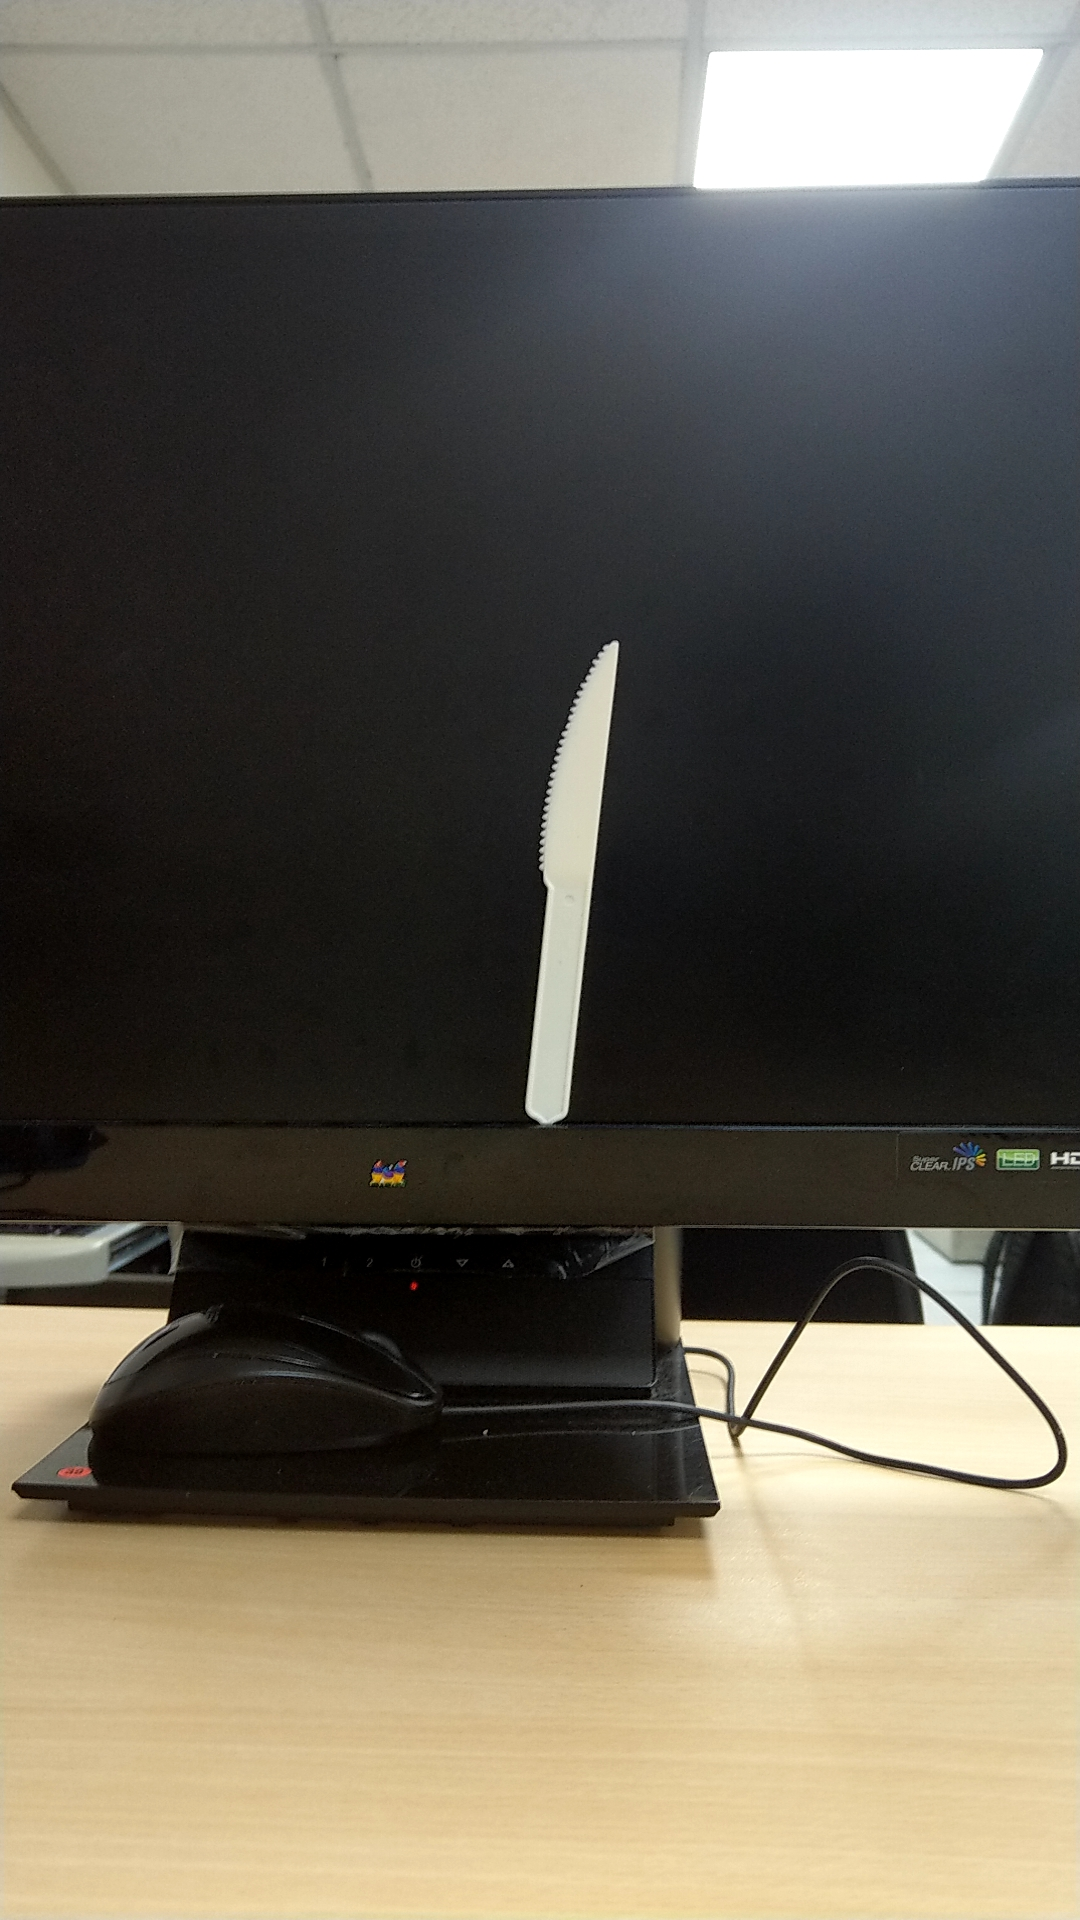knife: (502, 600, 626, 1129)
